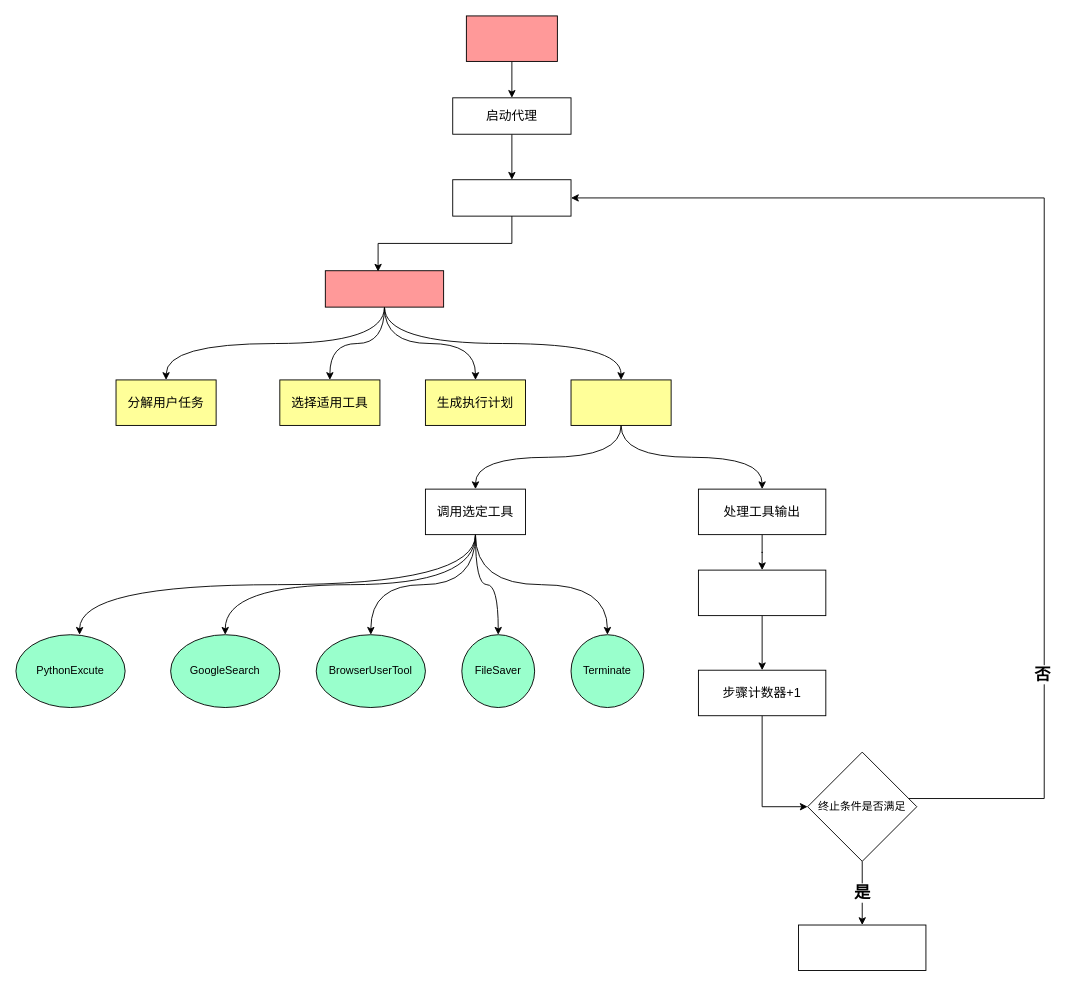
Some shapes in this 1067 by 986 pixel diagram are drawn without their labels. Here are the shapes that lost their labels. From the top down, the centre of each, then its label:
(x=511, y=38): main.py
(x=511, y=197): 循环开始
(x=384, y=288): think阶段
(x=620, y=402): act阶段
(x=762, y=592): 更新AgentState
(x=862, y=947): 输出最终结果
